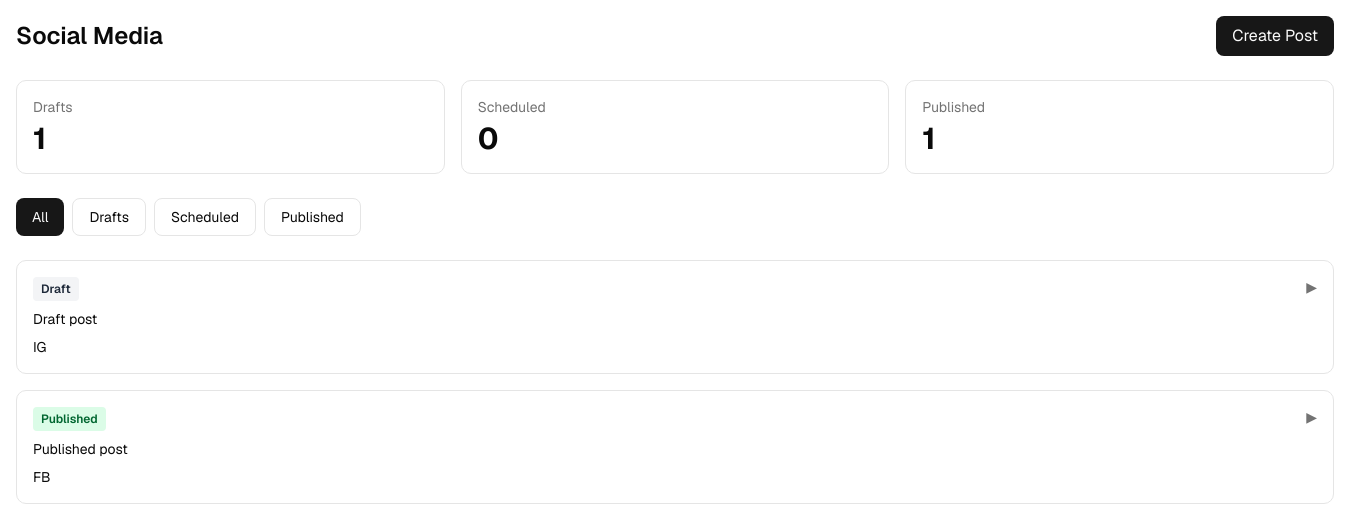
Scenario: SocialMedia › filters posts by status
Expected: the text "Draft post" is shown, [33, 310, 97, 328]
Expected: the text "Published post" is shown, [33, 440, 128, 458]
Note: Filter by drafts
Click the button "Drafts": (109, 217) [72, 198, 146, 236]
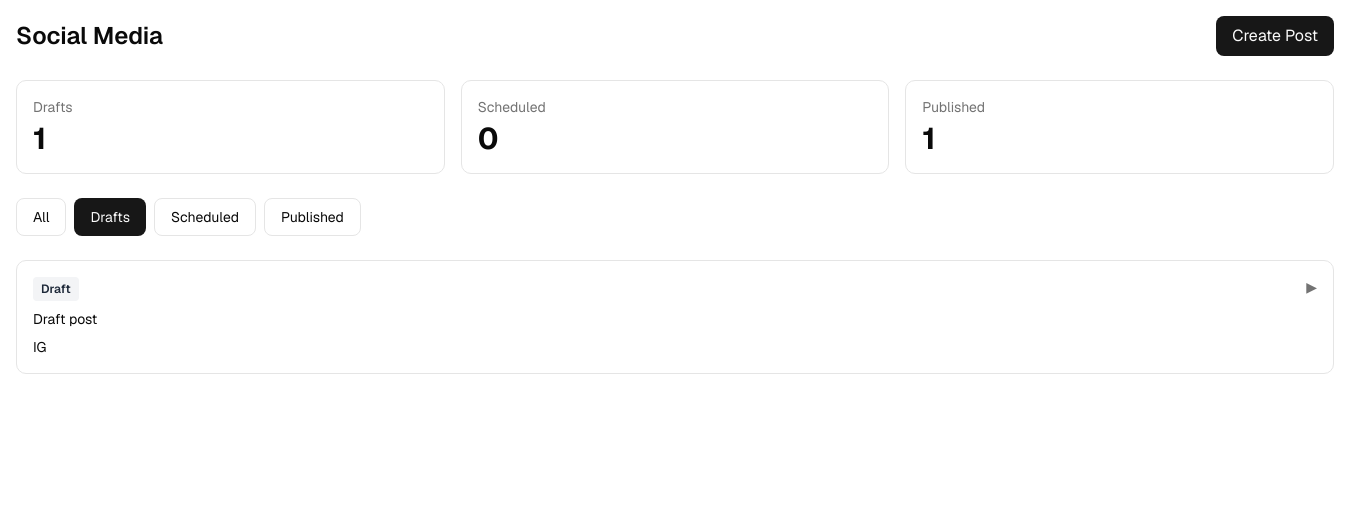
Expected: the text "Draft post" is shown, [33, 310, 97, 328]
Now the text "Published post" is gone
